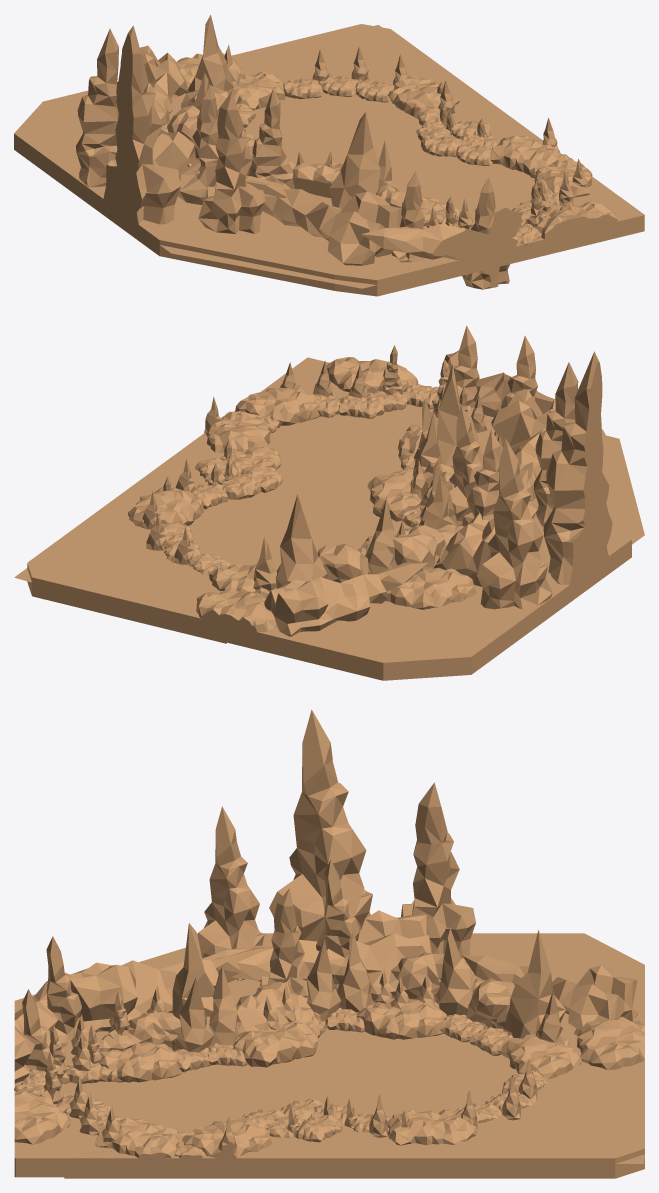
File: карта1 .fbx
3 views of the same model, one above another, from view 1: azimuth 30°, elevation 25°; view 2: azimuth 150°, elevation 25°; view 3: azimuth 270°, elevation 25° (orthographic). The views are drawn at different scales.
Parts seen in each view (by area): view 1: BézierCurve.002, Plane.001, BézierCurve.001, Cube.023, Cube.025, Cube.027, Cube.024, Cube.028, Cube.026, высокий камень.035, Cube.037, Cube.029 (+23 smaller); view 2: BézierCurve.002, Plane.001, BézierCurve.001, Cube.023, Cube.024, Cube.029, Cube.025, низкий камень.029, Cube.027, низкий камень.028, Cube.026, высокий камень.033 (+31 smaller); view 3: BézierCurve.001, Plane.001, Cube.023, BézierCurve.002, Cube.024, Cube.025, Cube.027, Cube.026, Cube.029, низкий камень.029, высокий камень.033, низкий камень.033 (+28 smaller).
Part boxes in pixels (box(x1,y1,x2,y2)): BézierCurve.002: box(14, 90, 644, 296); Plane.001: box(160, 25, 644, 288); BézierCurve.001: box(231, 24, 619, 196); Cube.023: box(103, 25, 180, 230); Cube.025: box(245, 176, 401, 265); Cube.027: box(198, 90, 265, 233); Cube.024: box(76, 28, 118, 187); Cube.028: box(361, 207, 522, 260); Cube.026: box(152, 129, 286, 204); высокий камень.035: box(329, 112, 380, 209); Cube.037: box(252, 89, 294, 189); Cube.029: box(140, 45, 190, 125); BézierCurve.002: box(213, 357, 631, 680); Plane.001: box(14, 404, 644, 582); BézierCurve.001: box(27, 378, 282, 643); Cube.023: box(543, 351, 612, 590); Cube.024: box(476, 439, 552, 609); Cube.029: box(264, 562, 428, 636); Cube.025: box(491, 389, 555, 500); низкий камень.029: box(196, 590, 276, 638); Cube.027: box(534, 362, 578, 526); низкий камень.028: box(385, 567, 476, 609); Cube.026: box(434, 462, 537, 586); высокий камень.033: box(275, 494, 327, 588); BézierCurve.001: box(64, 1060, 644, 1178); Plane.001: box(14, 947, 644, 1163); Cube.023: box(269, 709, 372, 941); BézierCurve.002: box(14, 933, 644, 1177); Cube.024: box(401, 782, 475, 958); Cube.025: box(70, 946, 273, 1033); Cube.027: box(197, 806, 264, 980); Cube.026: box(202, 910, 432, 981); Cube.029: box(462, 955, 638, 1029); низкий камень.029: box(574, 1016, 644, 1070); высокий камень.033: box(503, 930, 565, 1038); низкий камень.033: box(357, 999, 447, 1039).
Size of the model in its own units: 14818 by 9219 by 17582.
